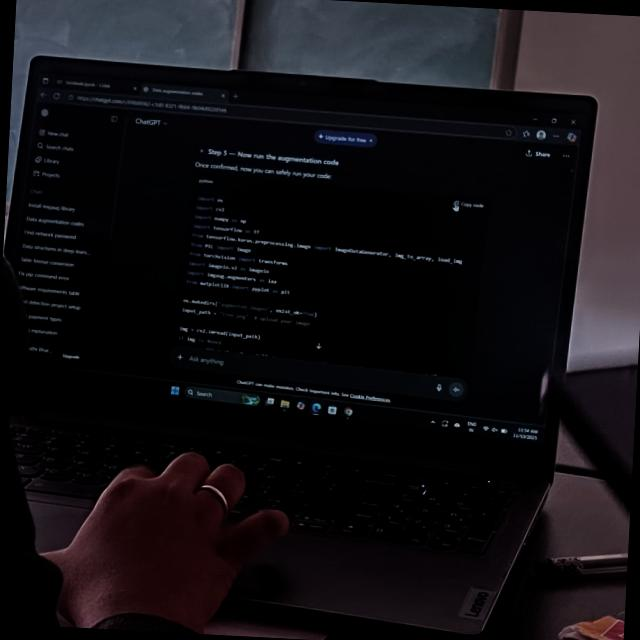laptop: (0, 43, 585, 638)
